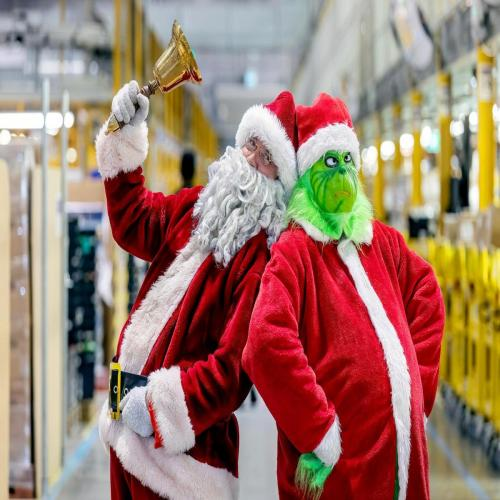Santa: (94, 75, 297, 500)
